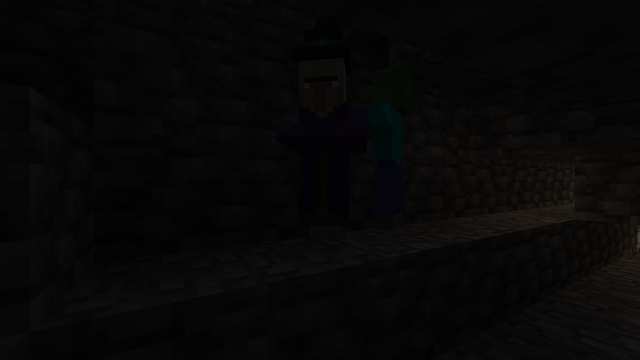sorcieres: (300, 43, 361, 243)
zombies: (371, 66, 422, 232)
